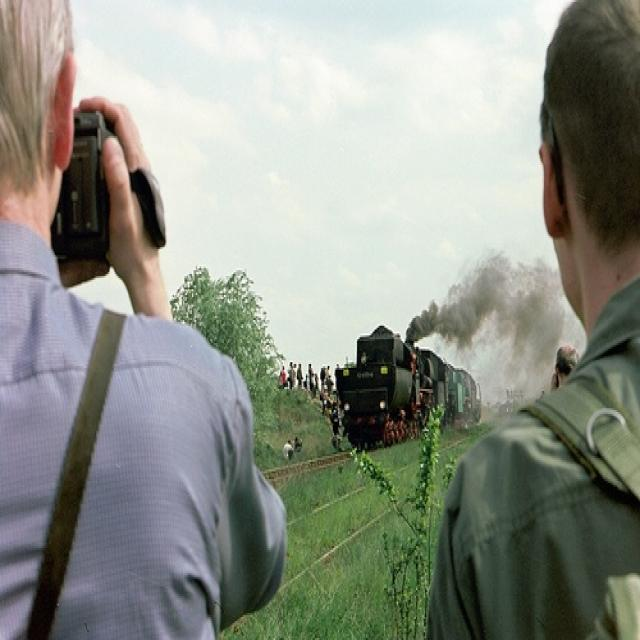person: (1, 1, 285, 639), (426, 1, 640, 635)
train: (338, 325, 481, 451)
